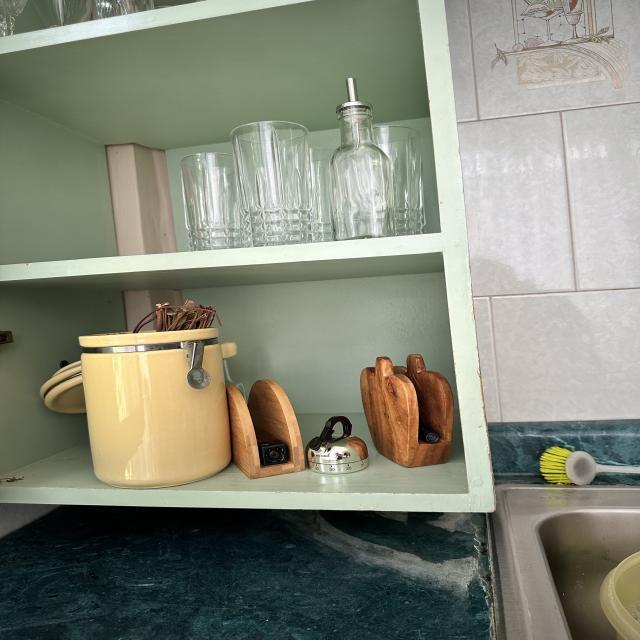hidden camera: (426, 432, 439, 443), (269, 451, 280, 460)
